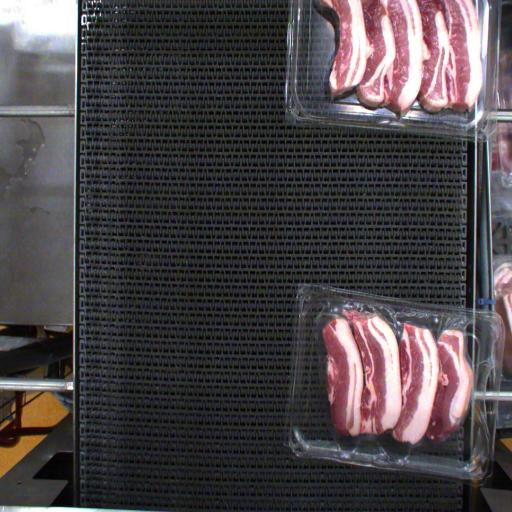unsealed: (314, 294, 494, 393)
